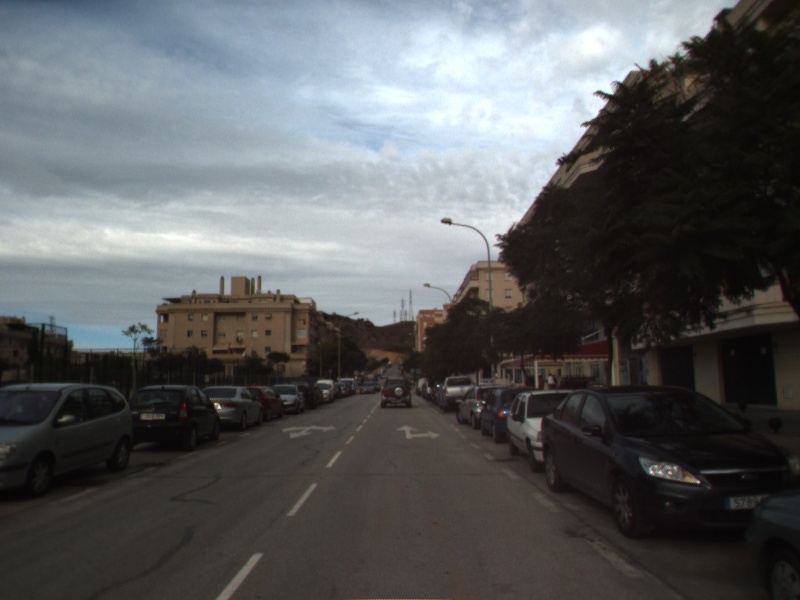STRAIGHT_RIGHT: (394, 423, 442, 441)
